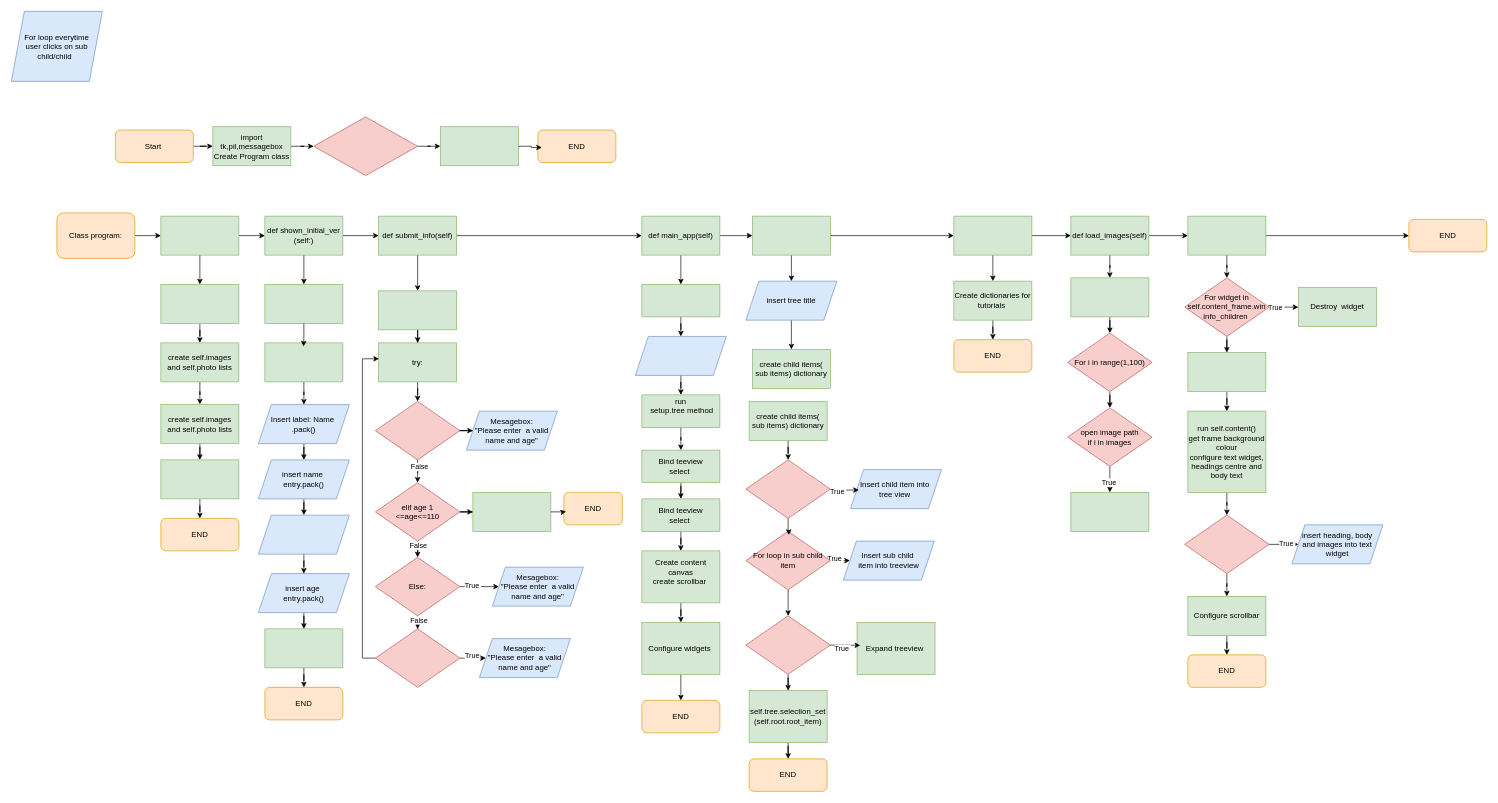
Image size: 1498x803. Some labels were removed from this diagram. Here are the shapes that lost their labels. From the top down, the centre of each, then its label:
the point at 365,146: if "___name__=__main""
the point at 479,146: Root mainloop
the point at 199,235: def __init__(self,rooot):
the point at 791,235: def setup_tree (self)
the point at 992,235: def content(self)
the point at 1226,235: def on_tree_select(self)
the point at 199,303: self.root Create geometry for tkinter and title
the point at 303,303: Create vari= tk.frame(self.root) .pack()
the point at 417,310: get name and age entry
the point at 680,300: create treeframe(width,height ).pack()
the point at 1109,297: Create image_size ditionary
the point at 303,362: Set frame geometry
the point at 680,355: Create treeview .pack()
the point at 1226,372: self.selection[0] item_text get selection
the point at 417,430: If not age + name
the point at 199,479: Run self.show_initial_ veri()
the point at 787,488: For loop in child item
the point at 511,511: destory self.veri Run self.main_app()
the point at 1109,511: pass on image size and image numer
the point at 303,534: Insert label: Age .pack()
the point at 1226,544: if item text=="": repeated for all item text
the point at 303,648: veri=self.veri
the point at 417,657: Except value error
the point at 787,644: For child_item in self.tree.get_children
